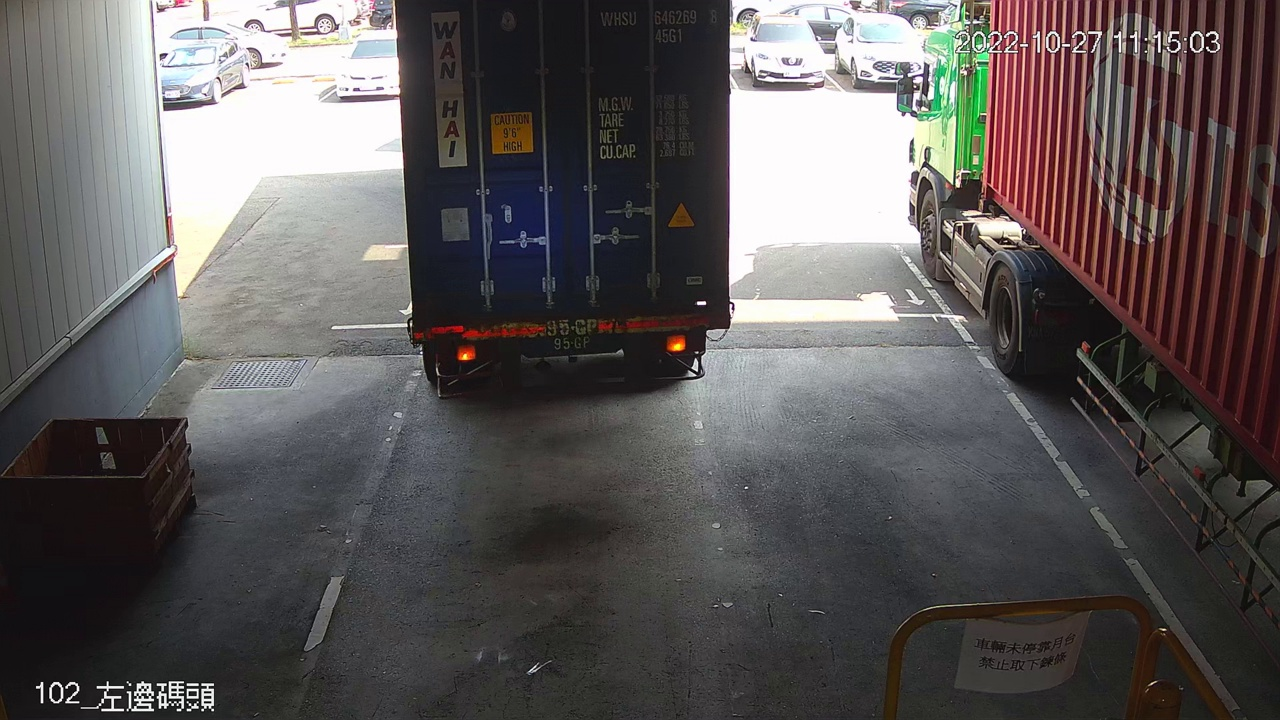container: (595, 4, 723, 50)
